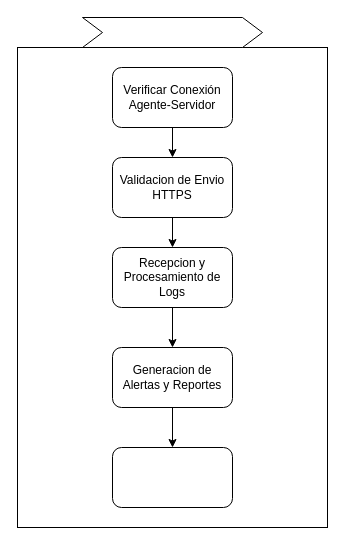
Image size: 345x545. Some labels were removed from this diagram. The centre of each missing label's shape, as x and y in pixels:
Acceso Frontend Administrador: (x=172, y=477)
Pruebas de Integracion: (x=172, y=32)
